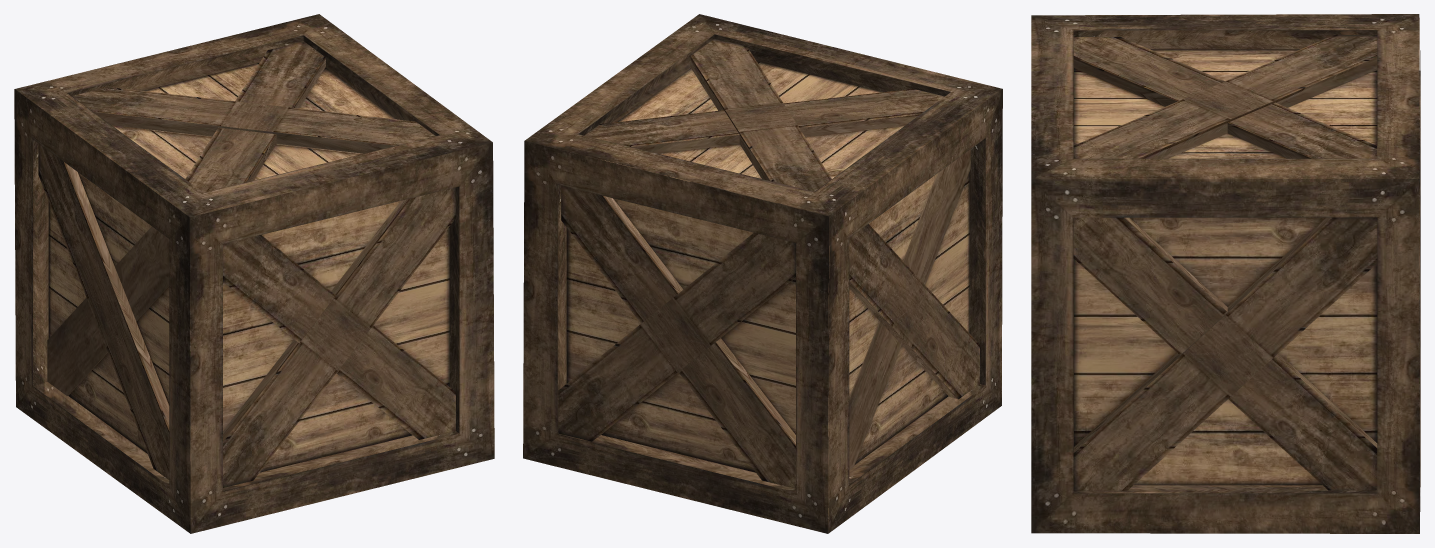
File: Boxblend.glb
3 views of the same model, side by side, from view 1: azimuth 30°, elevation 25°; view 2: azimuth 150°, elevation 25°; view 3: azimuth 270°, elevation 25° (orthographic). The views are drawn at different scales.
Parts seen in each view (by area): view 1: Cube.008; view 2: Cube.008; view 3: Cube.008.
Boxes of the visible parts, x1,y1,x2,y2 form: Cube.008: (14,14,494,533); Cube.008: (523,14,1002,533); Cube.008: (1031,14,1420,533).
Size of the model in its own units: 2.05 by 2.03 by 2.01.
1 material, 1 textured.
